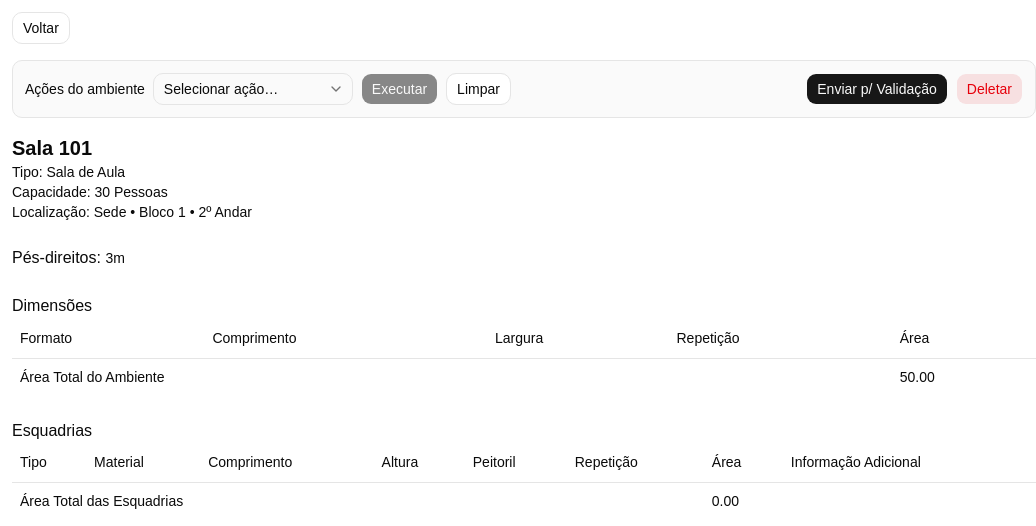
Test case: NaoPublicadoDetalhePage › renderiza o detalhe, os botões críticos e o select de ações do gestor
Expected: the heading "Sala 101" is shown, [12, 137, 92, 159]
Expected: the button "Enviar p/ Validação" is shown, [806, 73, 948, 105]
Ações não-críticas ficam como opções do select do AcoesAmbiente
Click the dropdown labelled "Selecionar ação" at (253, 89), box [153, 73, 353, 105]
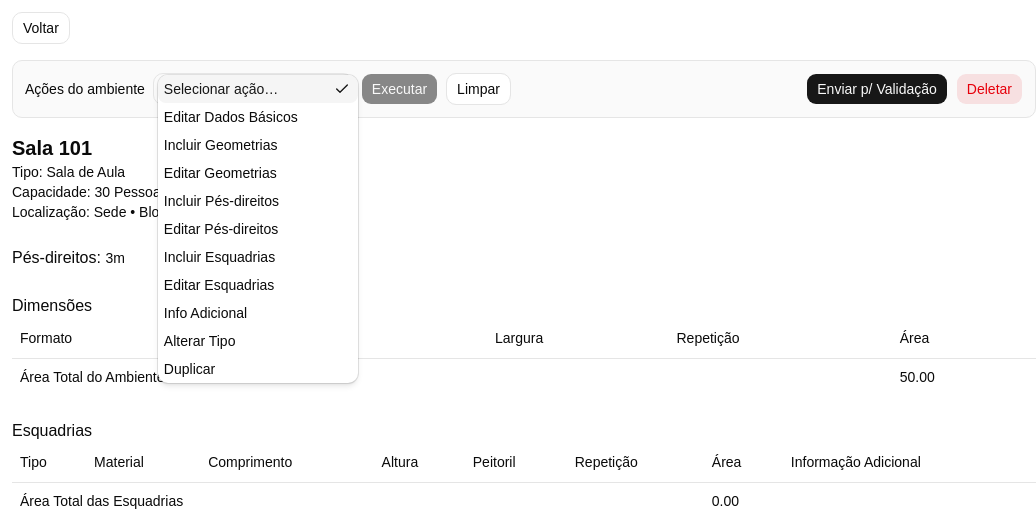
Expected: the option "Editar Dados Básicos" is shown, [164, 109, 298, 125]
Expected: the option "Alterar Tipo" is shown, [164, 333, 236, 349]
Expected: the option "Duplicar" is shown, [164, 361, 215, 377]
